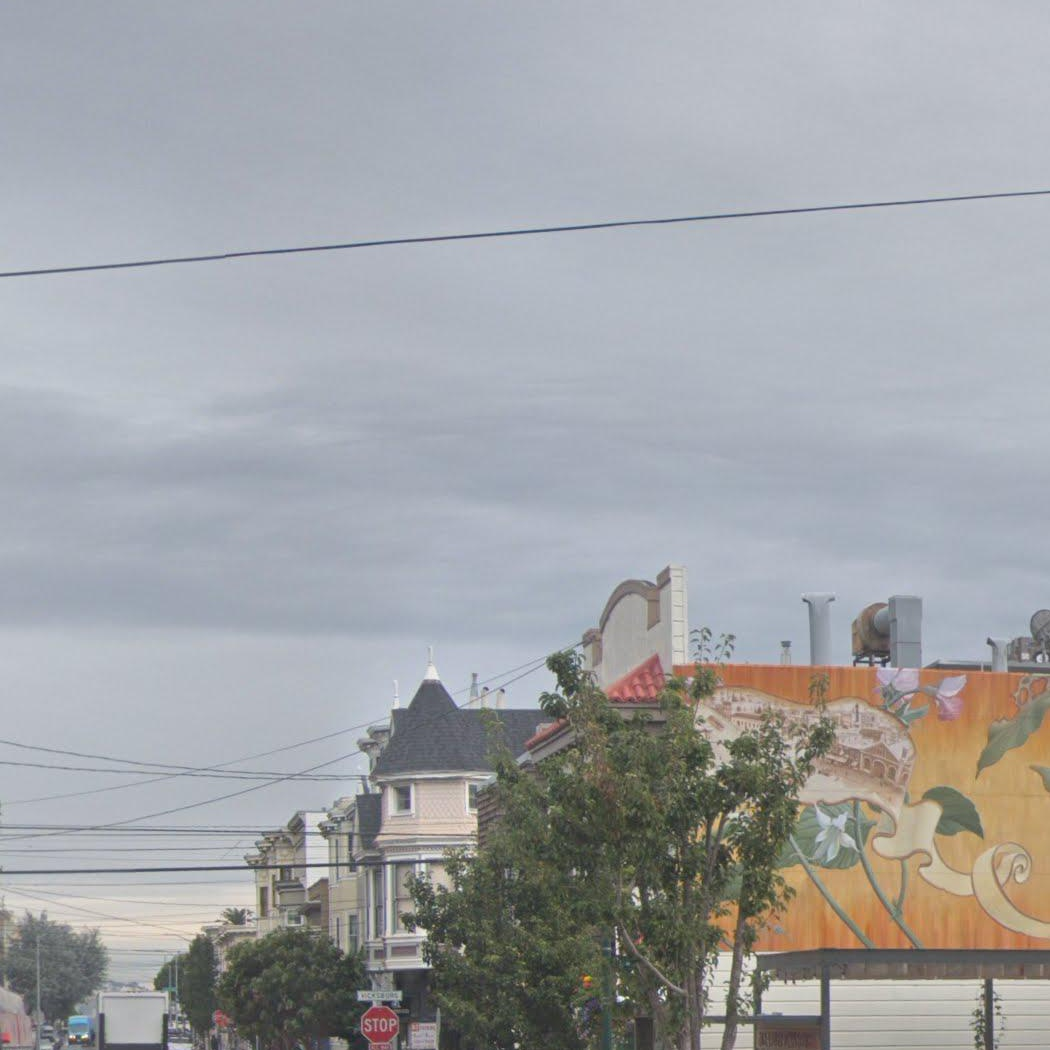No Parking: (409, 1022, 437, 1049)
